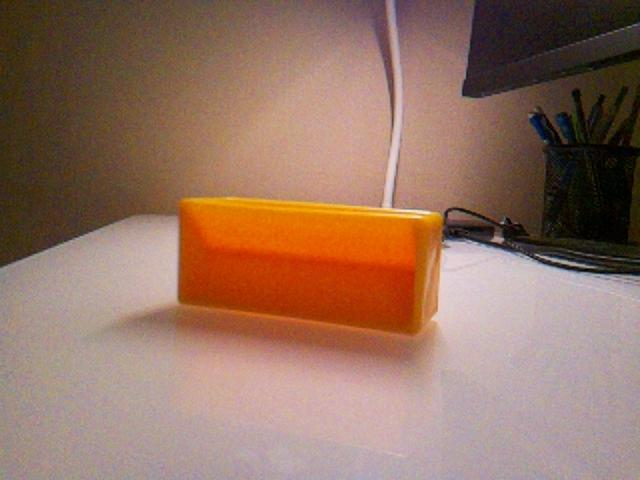yellow: (176, 195, 445, 336)
